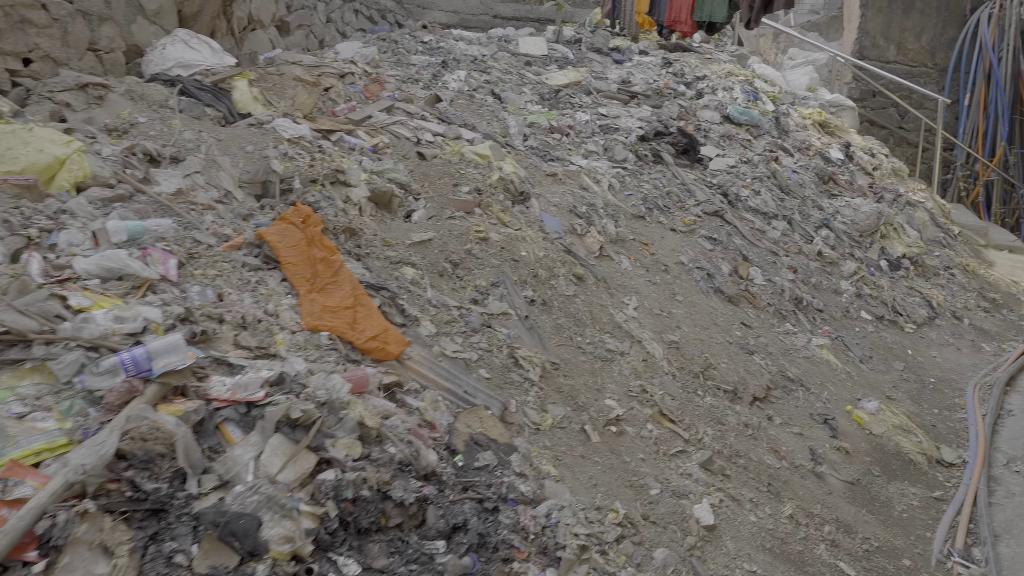garbage: (70, 333, 195, 391), (632, 117, 700, 166), (101, 219, 182, 241)
